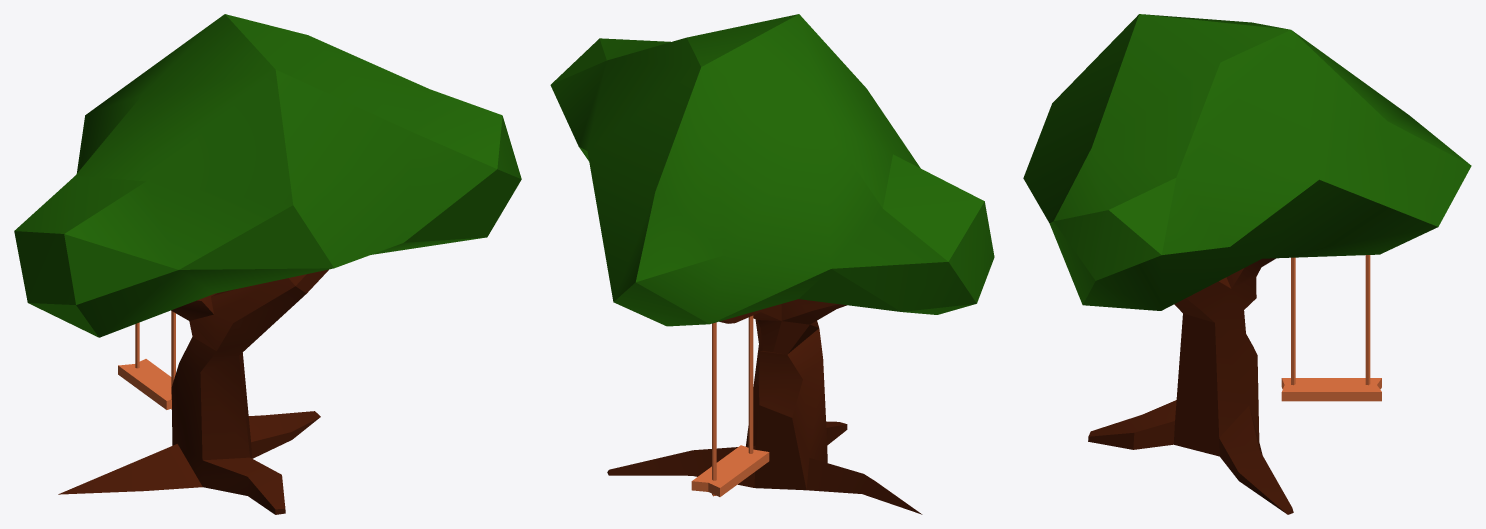
File: TreeWSwingProxy_C.fbx
3 views of the same model, side by side, from view 1: azimuth 30°, elevation 25°; view 2: azimuth 150°, elevation 25°; view 3: azimuth 270°, elevation 25° (orthographic). The views are drawn at different scales.
Visible parts, largest first — view 1: TreeWSwingProxy, Swing; view 2: TreeWSwingProxy, Swing; view 3: TreeWSwingProxy, Swing.
Boxes of the visible parts, <box> form: TreeWSwingProxy: <box>14,14,521,514</box>; Swing: <box>118,311,175,409</box>; TreeWSwingProxy: <box>550,14,994,514</box>; Swing: <box>691,315,769,496</box>; TreeWSwingProxy: <box>1023,14,1471,514</box>; Swing: <box>1281,255,1381,401</box>.
Size of the model in its own units: 776 by 712 by 655.
